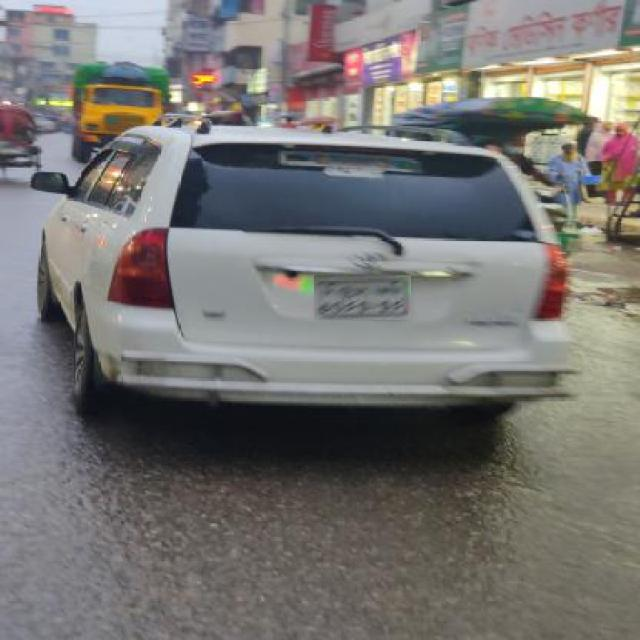Rickshaw: (1, 97, 43, 183)
numberplate: (314, 275, 411, 320)
